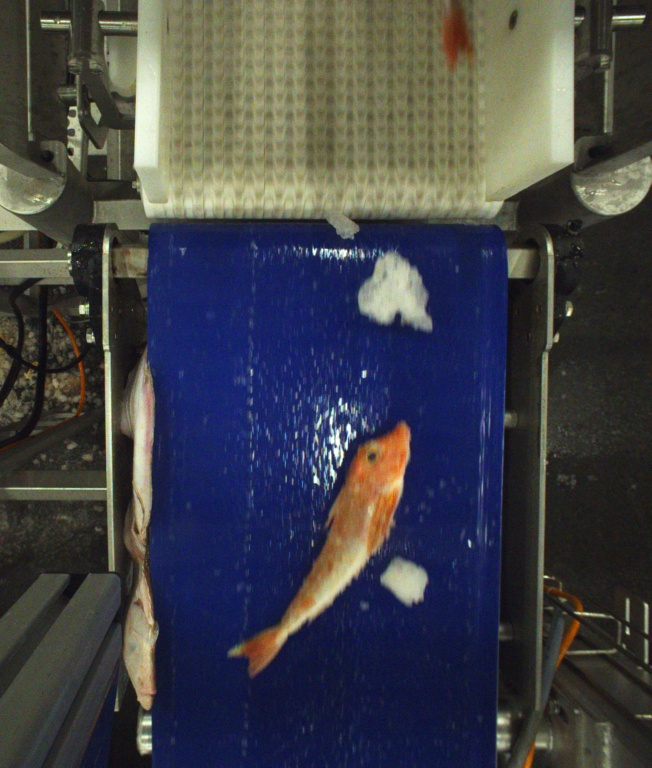GUU: (229, 423, 410, 675)
